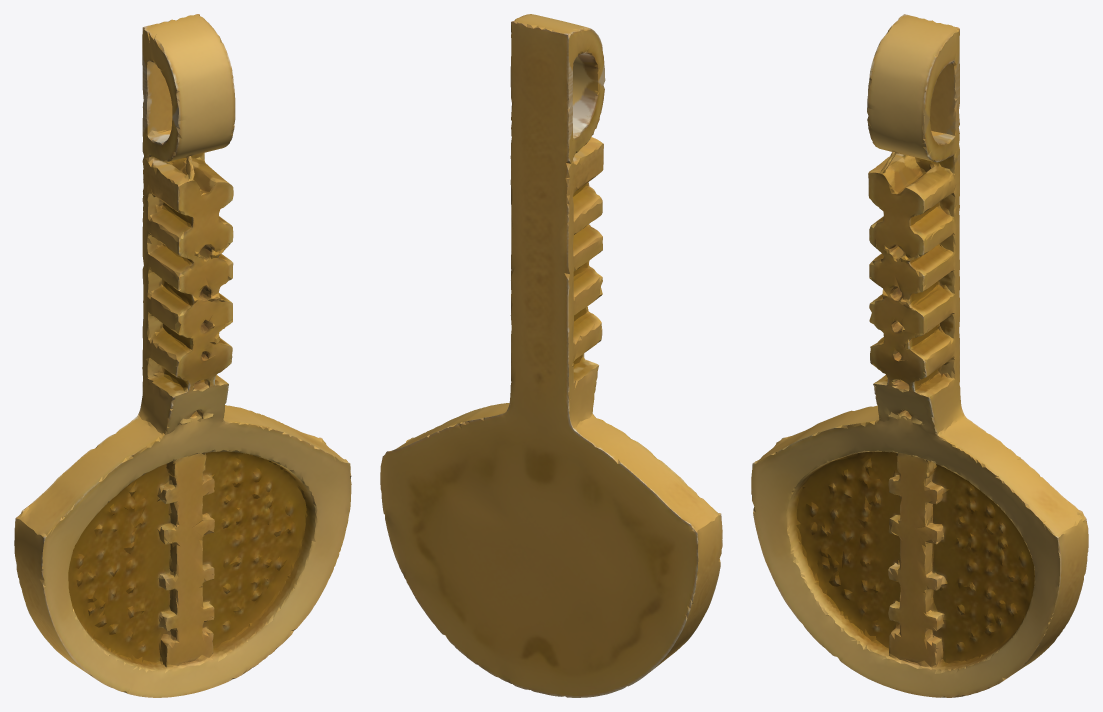
File: ankh.glb
3 views of the same model, side by side, from view 1: azimuth 30°, elevation 25°; view 2: azimuth 150°, elevation 25°; view 3: azimuth 330°, elevation 25° (orthographic).
Visible parts, largest first — view 1: Ankh; view 2: Ankh; view 3: Ankh.
Part boxes in pixels (x1,y1,x2,y2): Ankh: (14,14,351,697); Ankh: (380,14,722,697); Ankh: (751,14,1088,697).
Size of the model in its own units: 0.9452 by 1.89 by 0.1926.
Materials: 1 (1 with a texture image).
